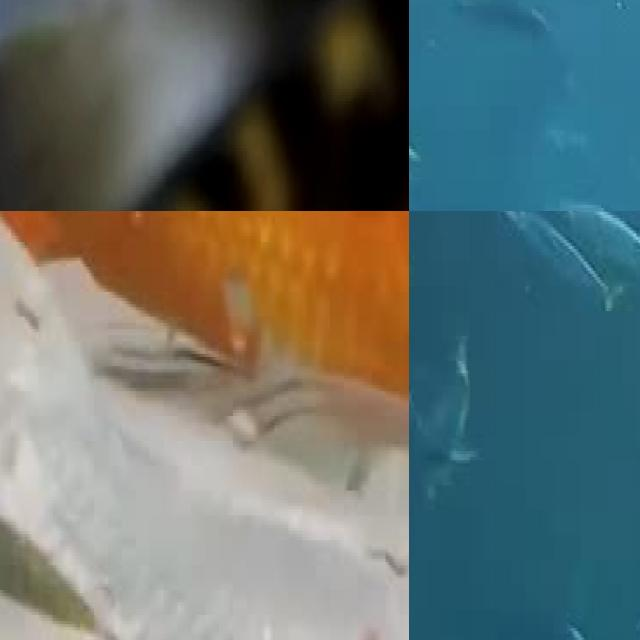fish: (0, 211, 409, 543), (0, 0, 409, 211)
